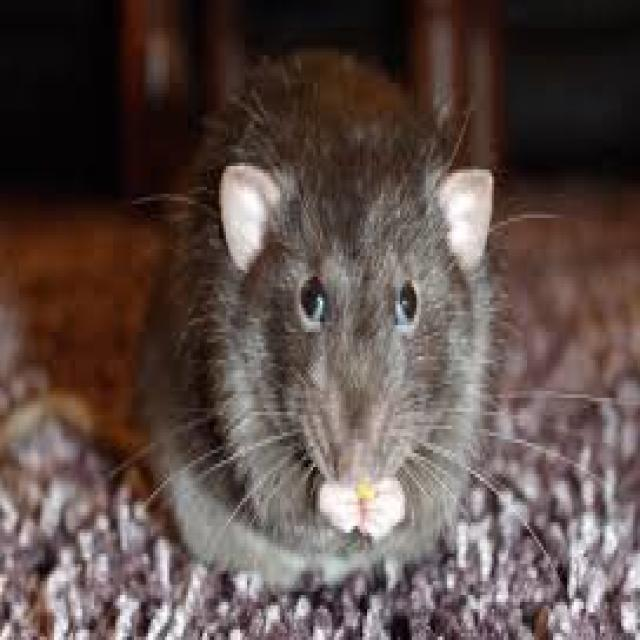rat: (141, 52, 501, 585)
